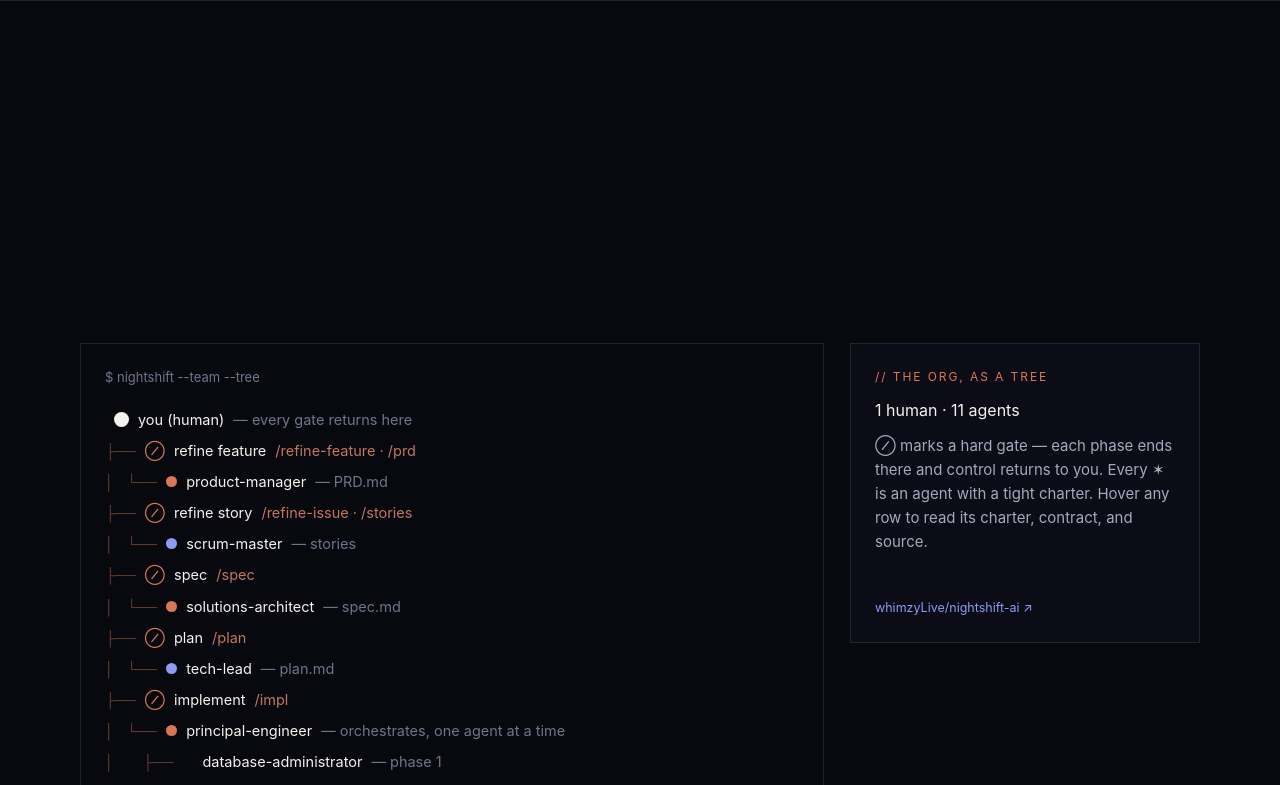
Test: TeamPreview › updates the side panel and dims other rows on hover (AC3)
Hover over the text "product-manager".
mouse_move(246, 481)  # box [105, 473, 388, 490]
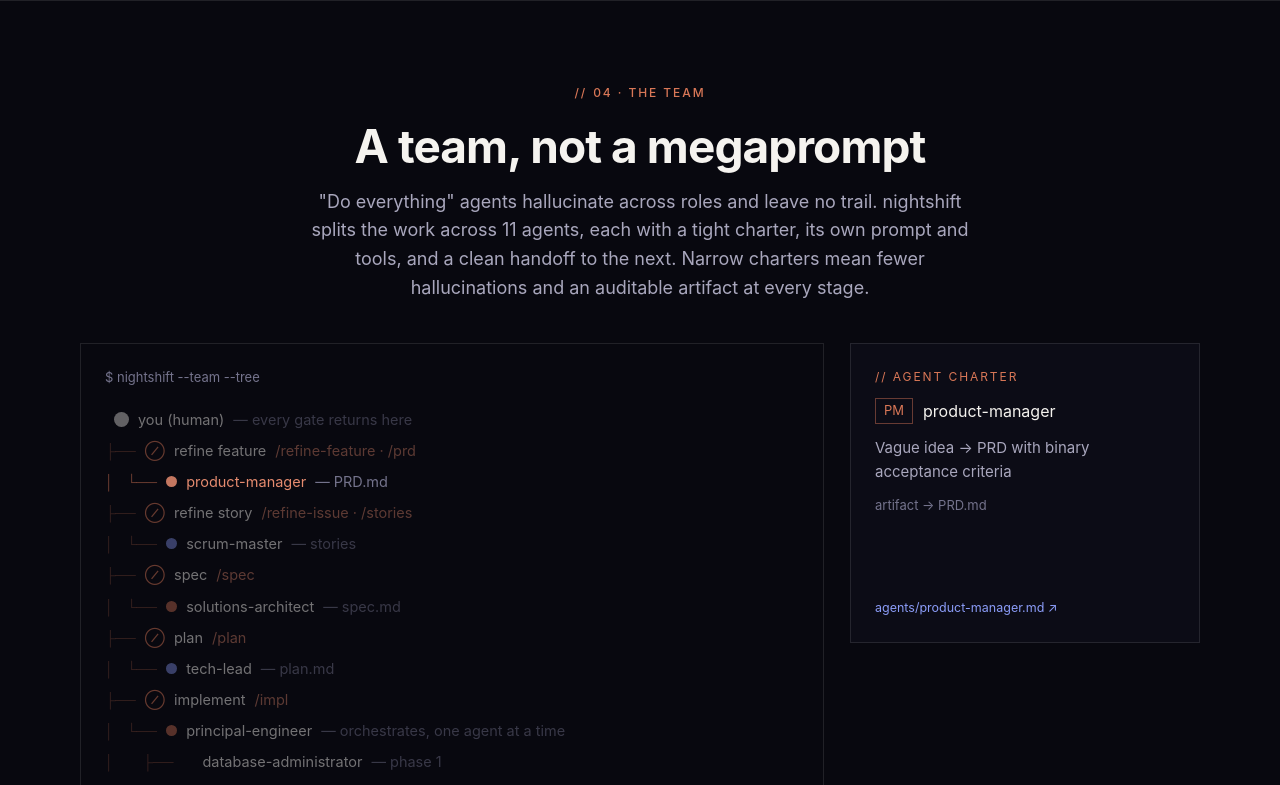
Check: the text "Vague idea → PRD with binary acceptance criteria" is shown, box [875, 437, 1090, 480]
